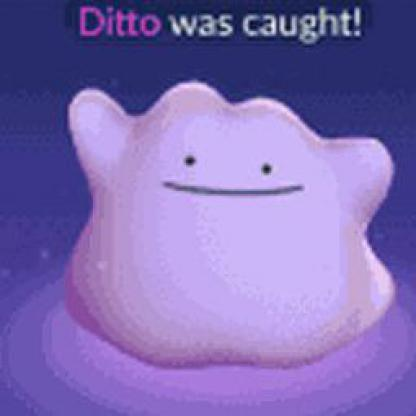Ditto: (36, 44, 416, 412)
